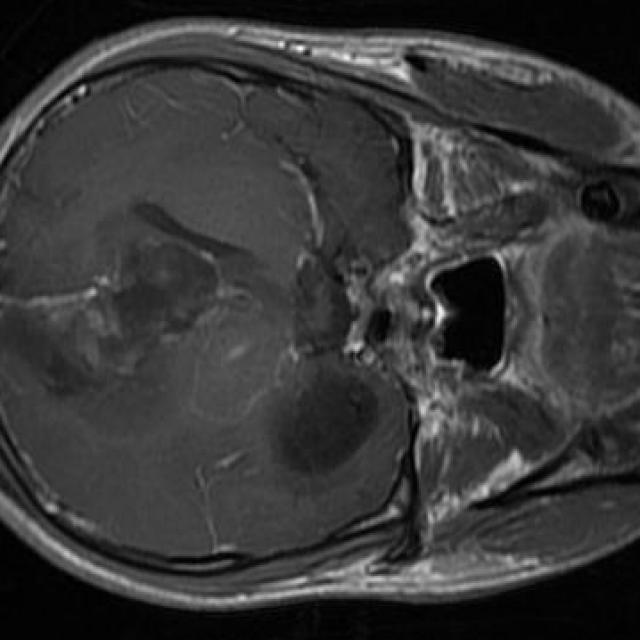glioma: (2, 203, 262, 421)
